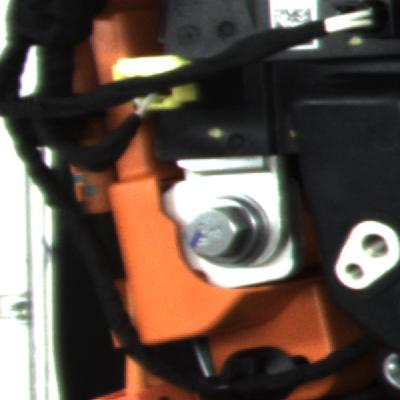nut_b: (178, 188, 291, 271)
